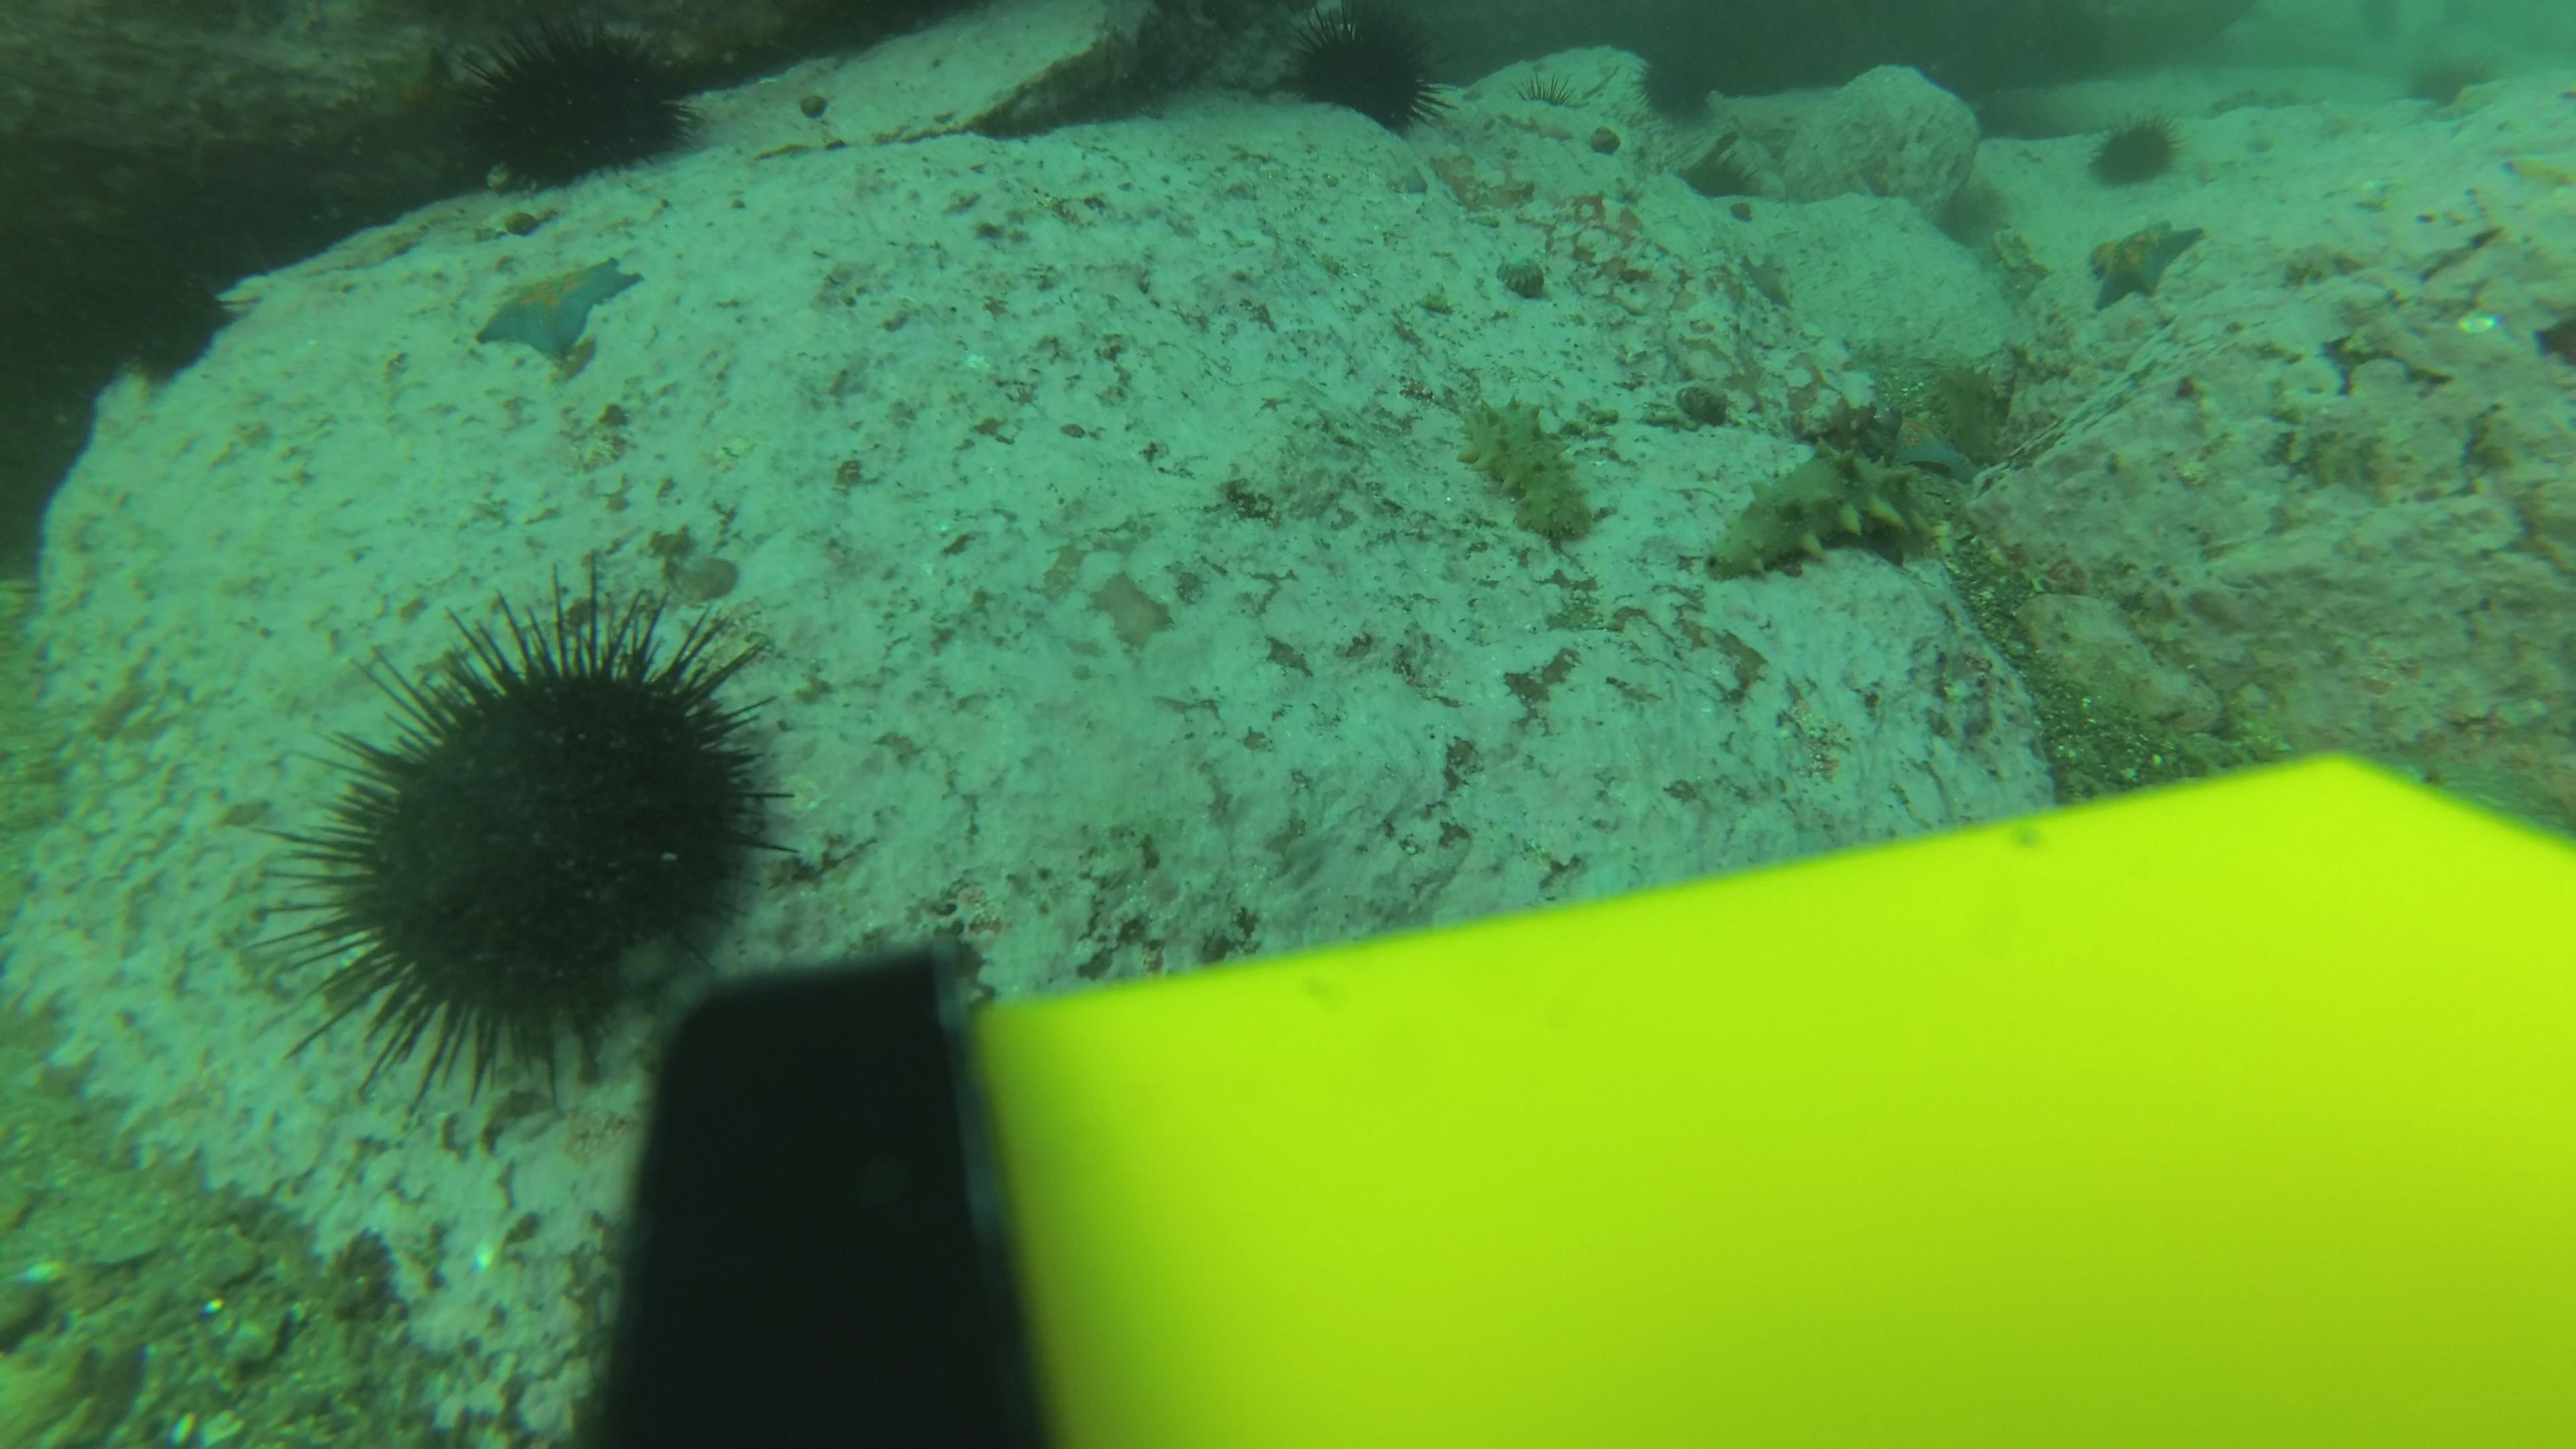urchin: (248, 619, 826, 1037), (462, 18, 718, 184), (1284, 0, 1479, 143), (140, 278, 269, 391), (1626, 30, 1746, 131), (2077, 103, 2190, 191)
